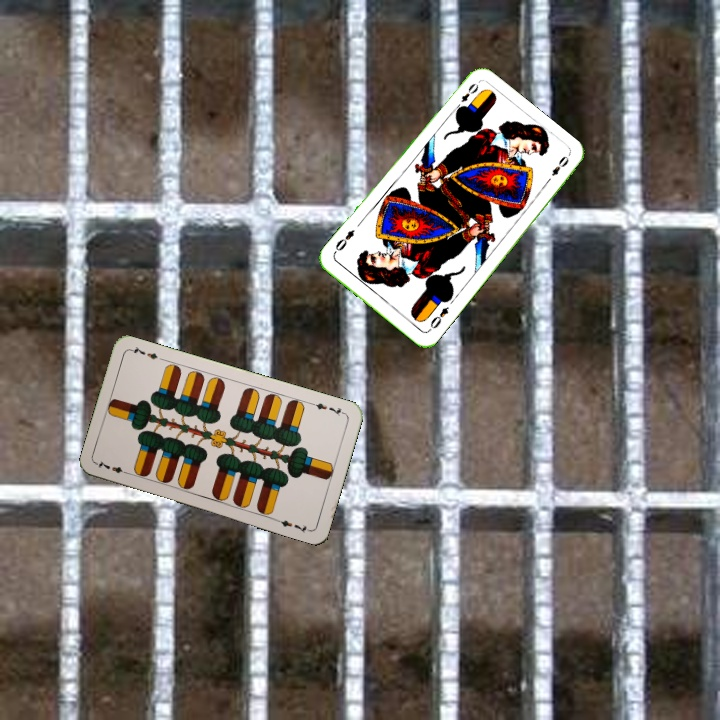E7: (308, 398, 348, 419), (93, 456, 133, 477)
EO: (426, 302, 451, 331), (457, 79, 481, 105)
